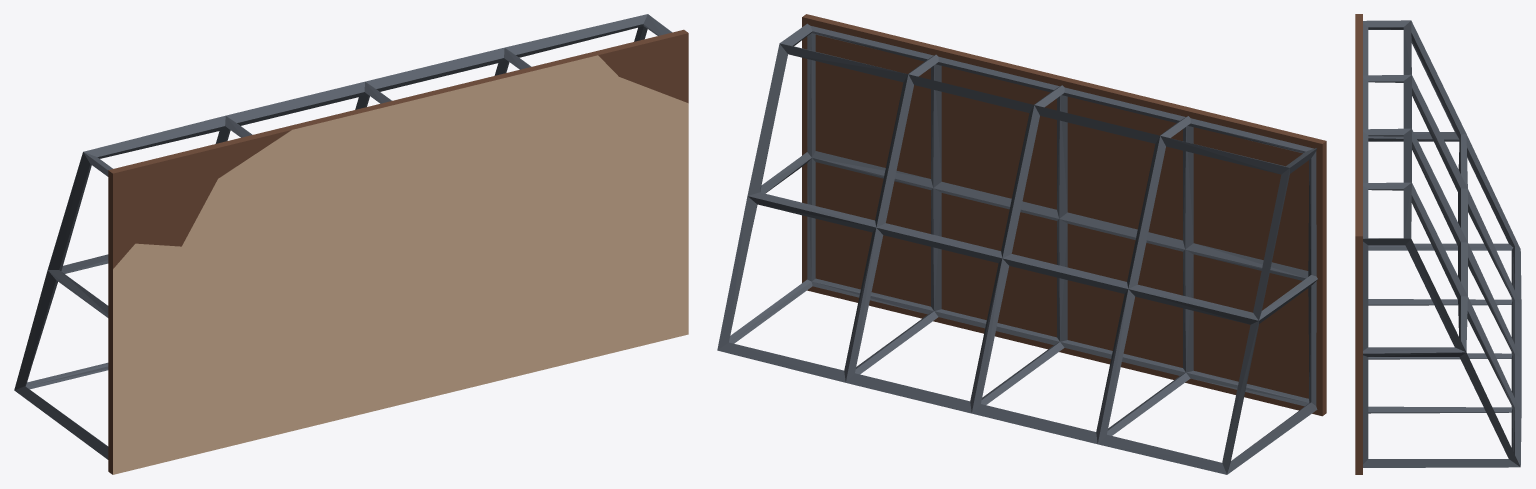
The model's file is Billboard1.fbx.
The picture shows the model from 3 angles, left to right: view 1: azimuth 30°, elevation 25°; view 2: azimuth 150°, elevation 25°; view 3: azimuth 270°, elevation 25°; orthographic projection. The views are drawn at different scales.
Parts seen in each view (by area): view 1: Billboard1; view 2: Billboard1; view 3: Billboard1.
Part boxes in pixels (x1=…): Billboard1: x1=14, y1=14, x2=688, y2=474; Billboard1: x1=717, y1=14, x2=1326, y2=474; Billboard1: x1=1355, y1=14, x2=1521, y2=474.
Bounding box in the file's own units: 400 × 200 × 126.
